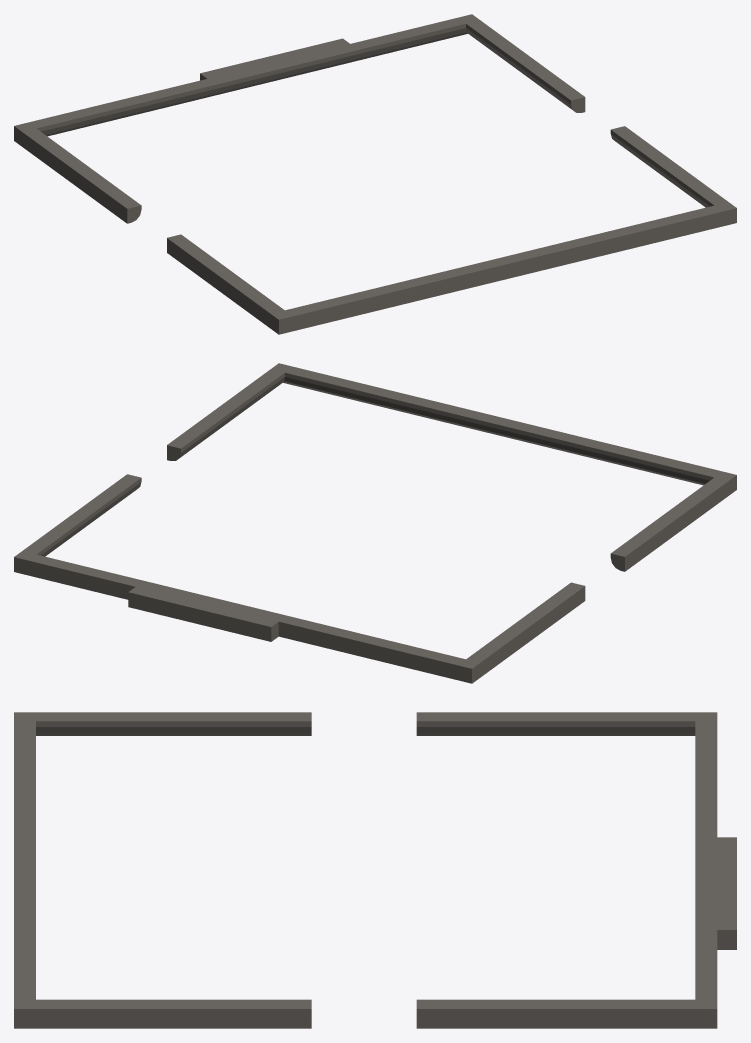
Rendered from obramowanie.fbx.
3 renders of one model, top to bottom at view 1: azimuth 30°, elevation 25°; view 2: azimuth 150°, elevation 25°; view 3: azimuth 270°, elevation 25°, orthographic. The views are drawn at different scales.
Parts seen in each view (by area): view 1: Cube.157; view 2: Cube.157; view 3: Cube.157.
Part boxes in pixels (box(x1,y1,x2,y2)): Cube.157: box(14, 14, 736, 334); Cube.157: box(14, 363, 736, 683); Cube.157: box(14, 712, 736, 1028).
Bounding box in the file's own units: 6420 × 200 × 6610.
